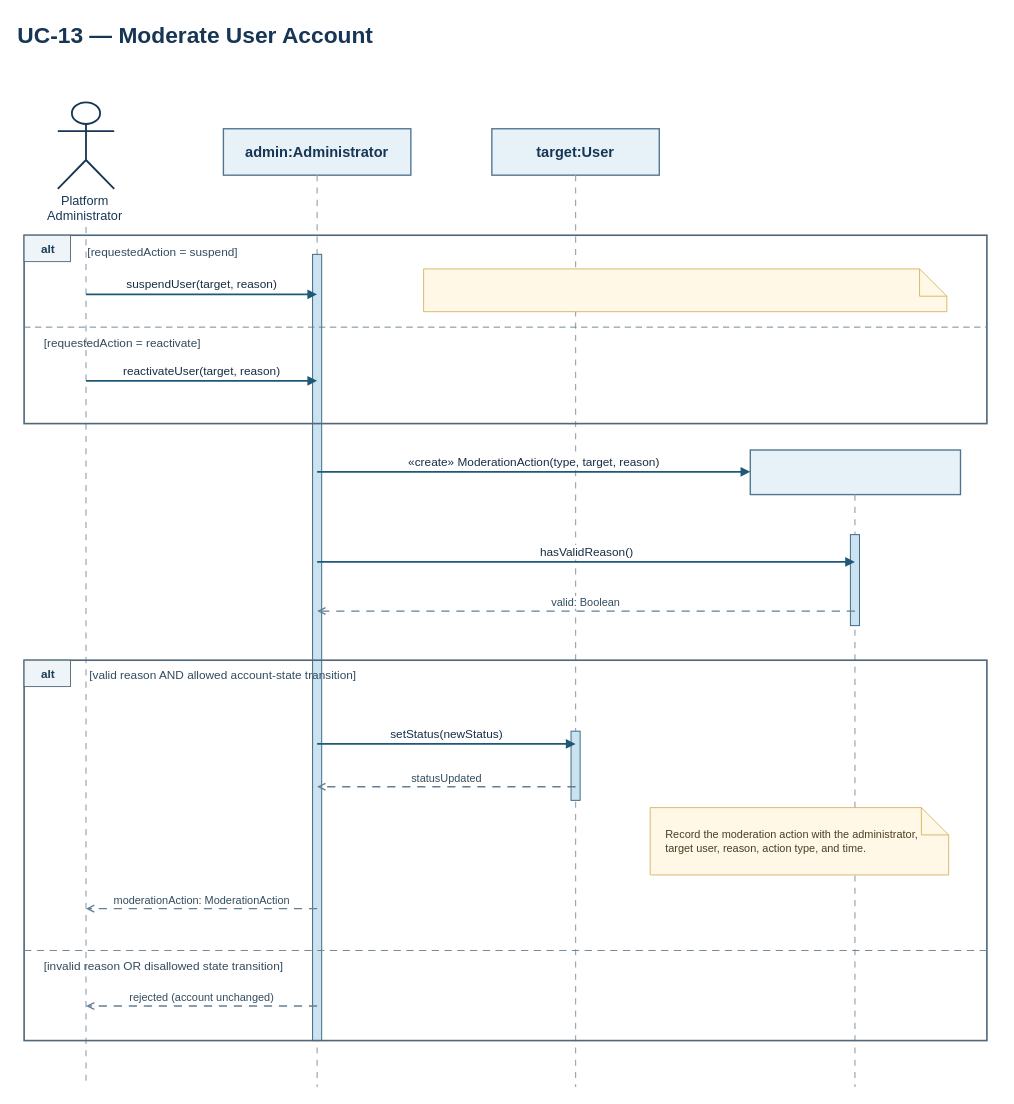
Image size: 1014x1104. Some labels were removed from this diagram. Here are the shapes that lost their labels. From the top down, the centre of each, then its label:
the point at 685,290: The administrator chooses one of the two operations. Both are defined in Lab 5.
the point at 855,472: action:ModerationAction
